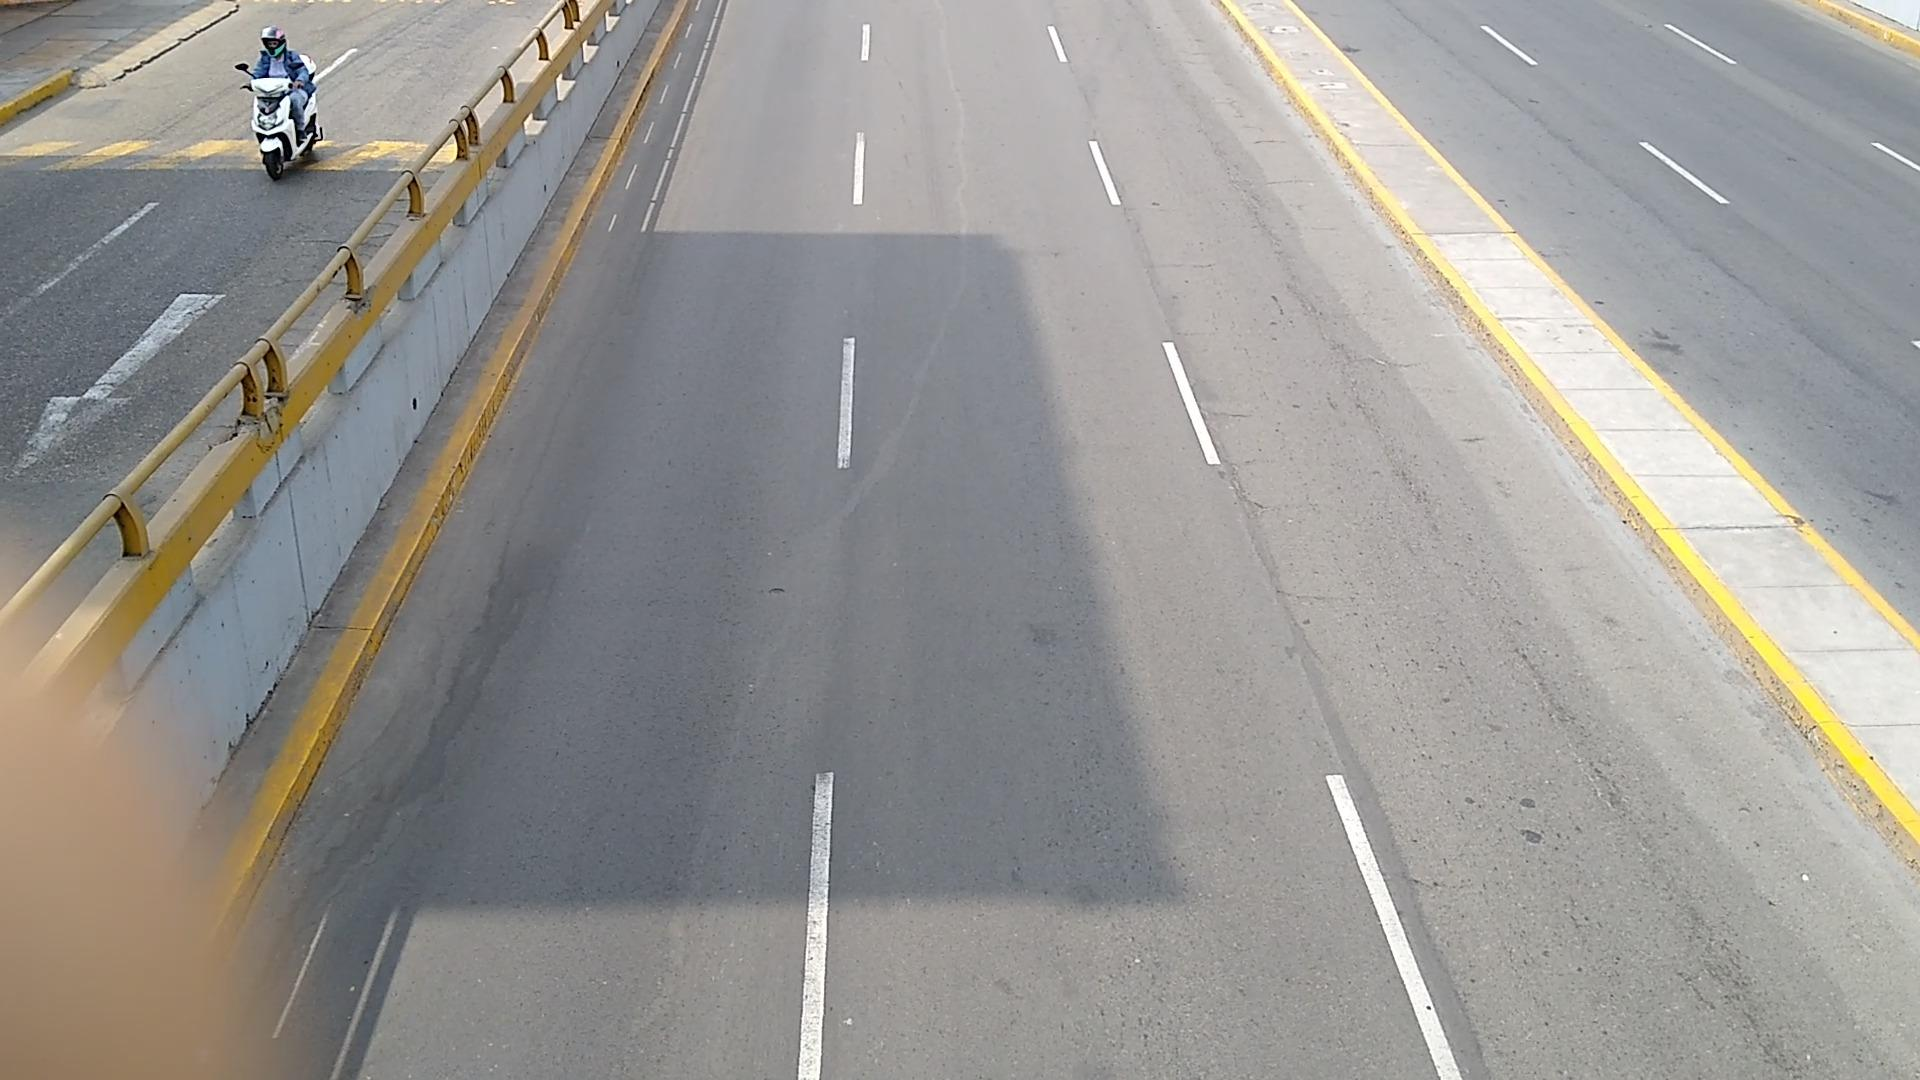motorcycle: (248, 71, 319, 179)
motorcyclist: (252, 26, 315, 94)
